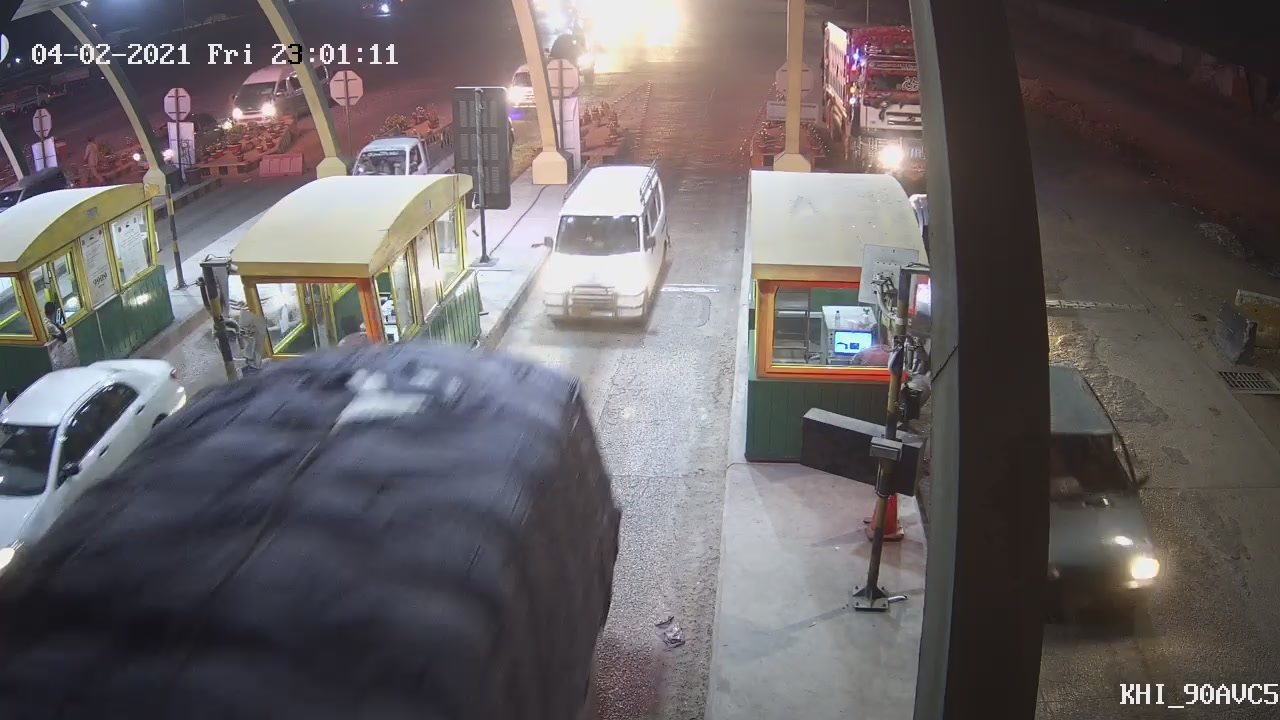F2: (532, 146, 677, 330)
